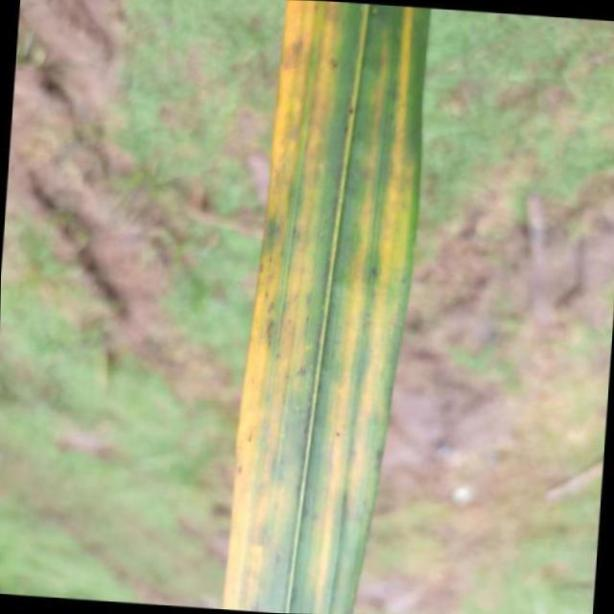Megnesium: (216, 0, 425, 614)
